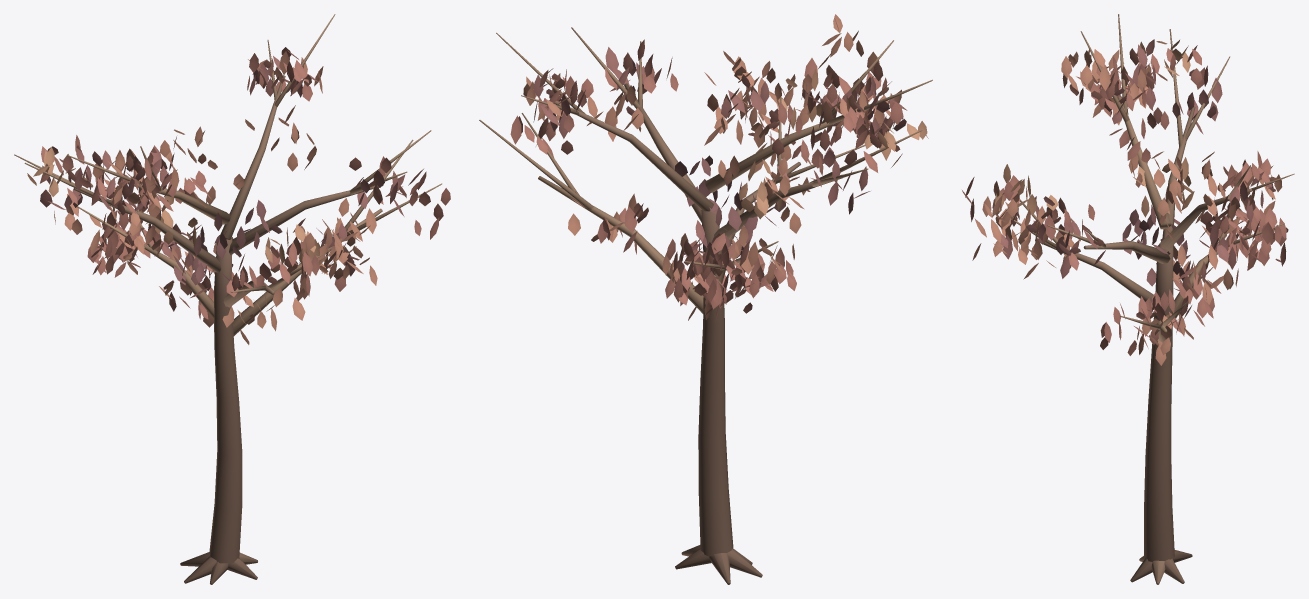
The model's file is tree_3d_03_red.glb.
The picture shows the model from 3 angles, left to right: view 1: azimuth 30°, elevation 25°; view 2: azimuth 150°, elevation 25°; view 3: azimuth 270°, elevation 25°; orthographic projection. The views are drawn at different scales.
Visible parts, largest first — view 1: tree_3d_03_red_foliage, tree_3d_03_red_wood; view 2: tree_3d_03_red_foliage, tree_3d_03_red_wood; view 3: tree_3d_03_red_foliage, tree_3d_03_red_wood.
Boxes of the visible parts, <box> form: tree_3d_03_red_foliage: <box>27,47,450,344</box>; tree_3d_03_red_wood: <box>14,14,441,584</box>; tree_3d_03_red_foliage: <box>510,14,928,323</box>; tree_3d_03_red_wood: <box>479,27,932,584</box>; tree_3d_03_red_foliage: <box>962,39,1288,365</box>; tree_3d_03_red_wood: <box>1013,14,1294,584</box>.
Size of the model in its own units: 10.88 by 12.84 by 7.91.
